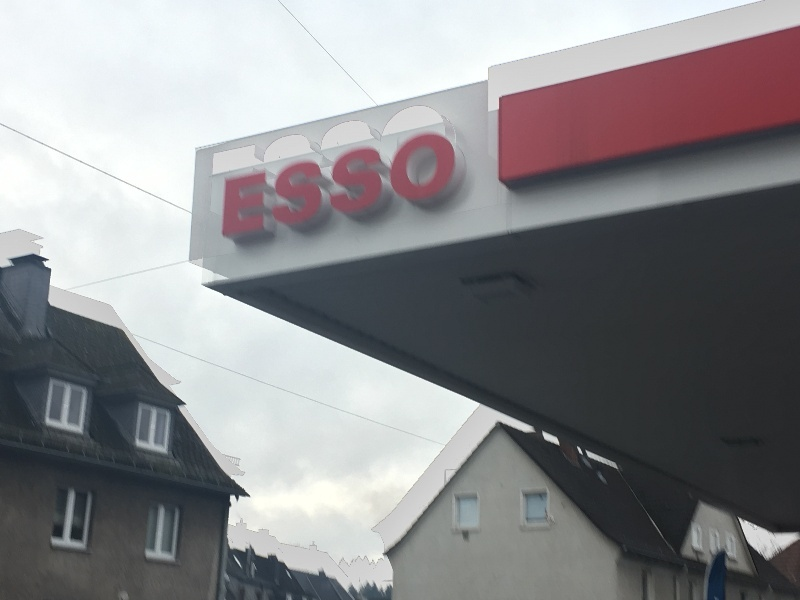text: (225, 127, 240, 246), (241, 127, 256, 246), (257, 127, 272, 246), (273, 127, 288, 246), (289, 127, 304, 246), (305, 127, 320, 246), (321, 127, 336, 246), (337, 127, 352, 246), (353, 127, 368, 246), (369, 127, 384, 246), (385, 127, 400, 246), (401, 127, 416, 246), (417, 127, 432, 246), (433, 127, 448, 246), (449, 127, 464, 246), (465, 127, 472, 246)
